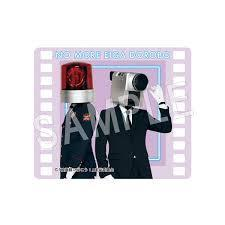no more kid: (108, 70, 150, 108)
